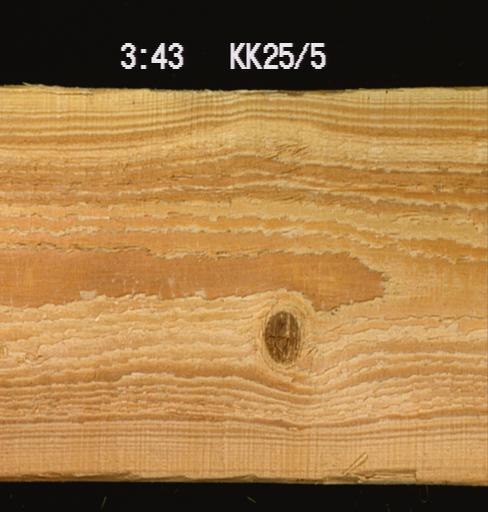sound_knot: (261, 308, 305, 364)
wave: (0, 468, 422, 484), (104, 85, 372, 96)
